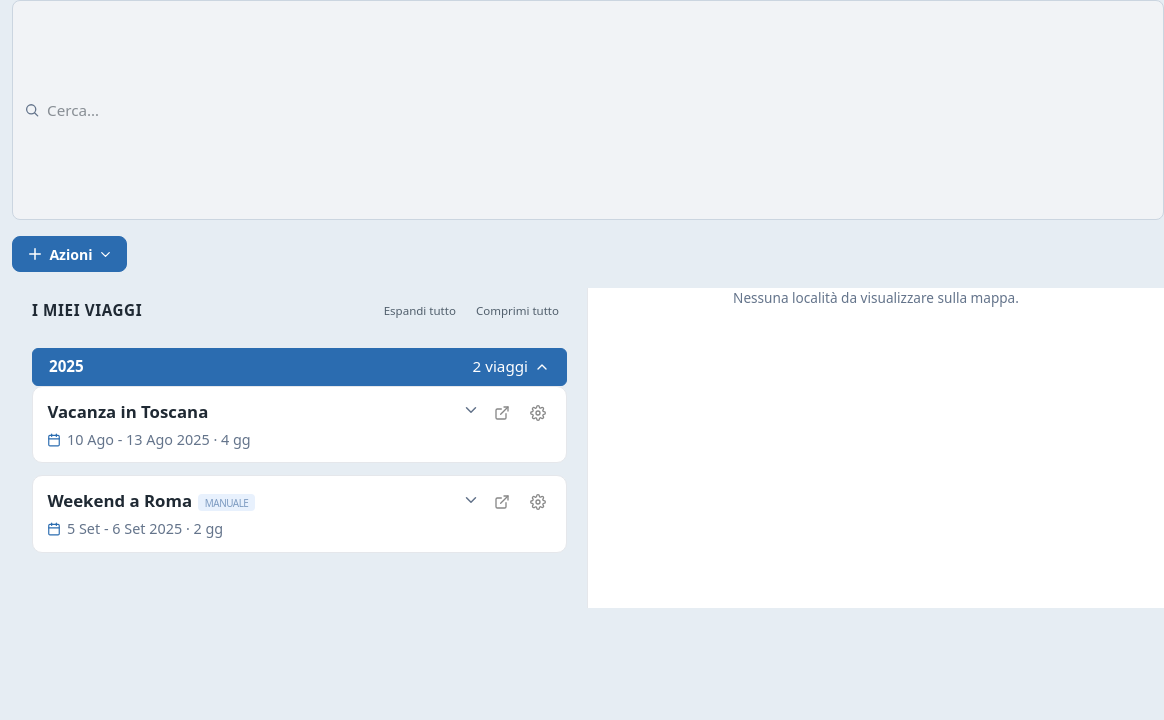
Test: TripsPage › collapses the expanded card when the card header is clicked again
expect the text "Vacanza in Toscana" is shown: met, box [47,400,208,423]
Click the button "Vacanza in Toscana 10 Ago - 13 Ago 2025 · 4 gg" at (128, 411), box [47,399,480,450]
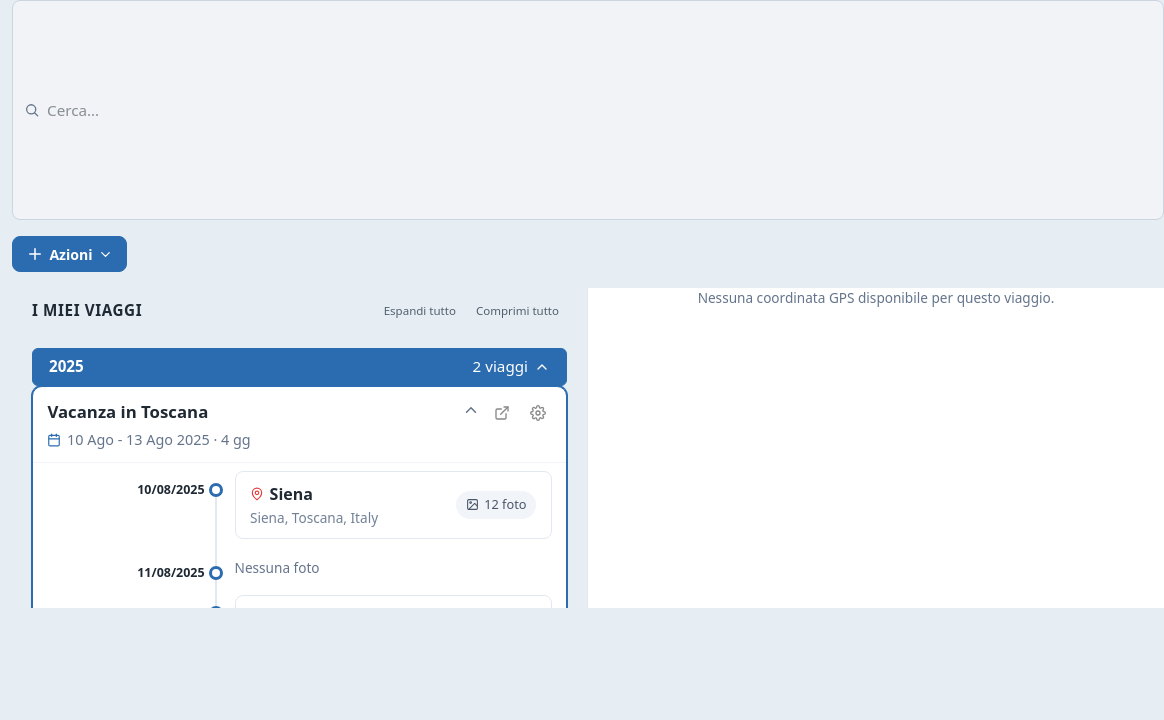
expect the text "Nessuna foto" is shown: met, box [235,558,320,576]
Click the button "Vacanza in Toscana 10 Ago - 13 Ago 2025 · 4 gg" at (128, 411), box [47,399,480,450]
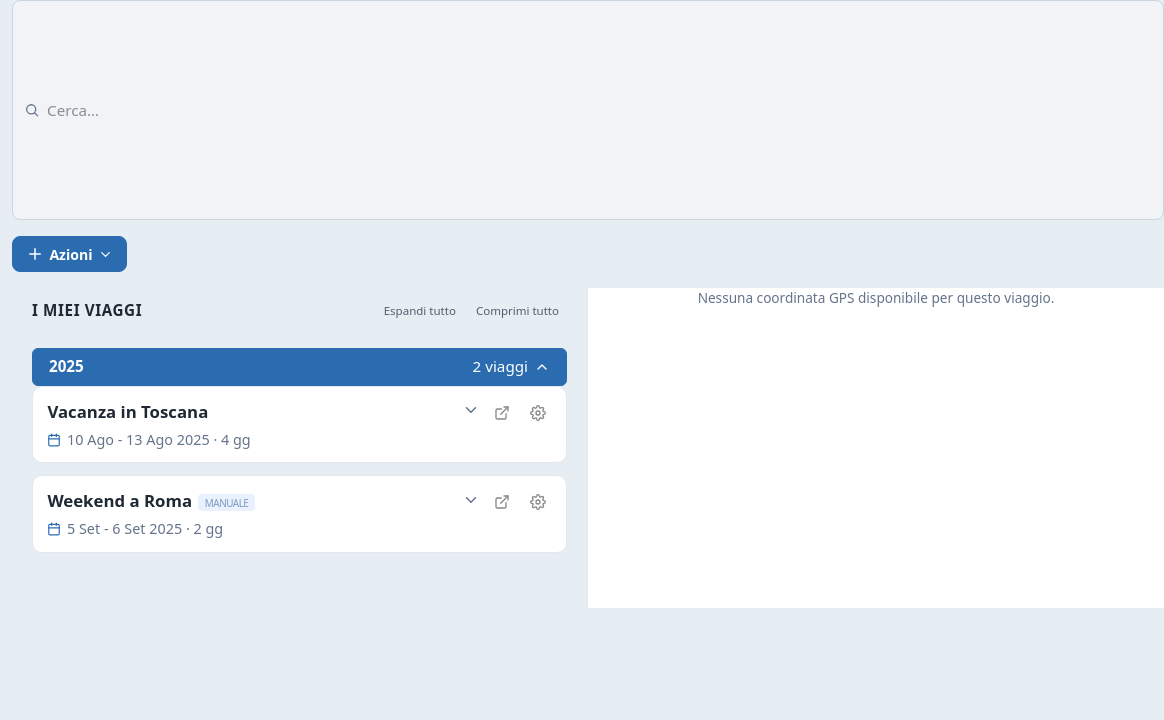
expect the text "Vacanza in Toscana" is shown: met, box [47,400,208,423]
expect the text "Nessuna foto" is gone: met
expect the button "Vacanza in Toscana 10 Ago - 13 Ago 2025 · 4 gg" is collapsed: met, box [47,399,480,450]
